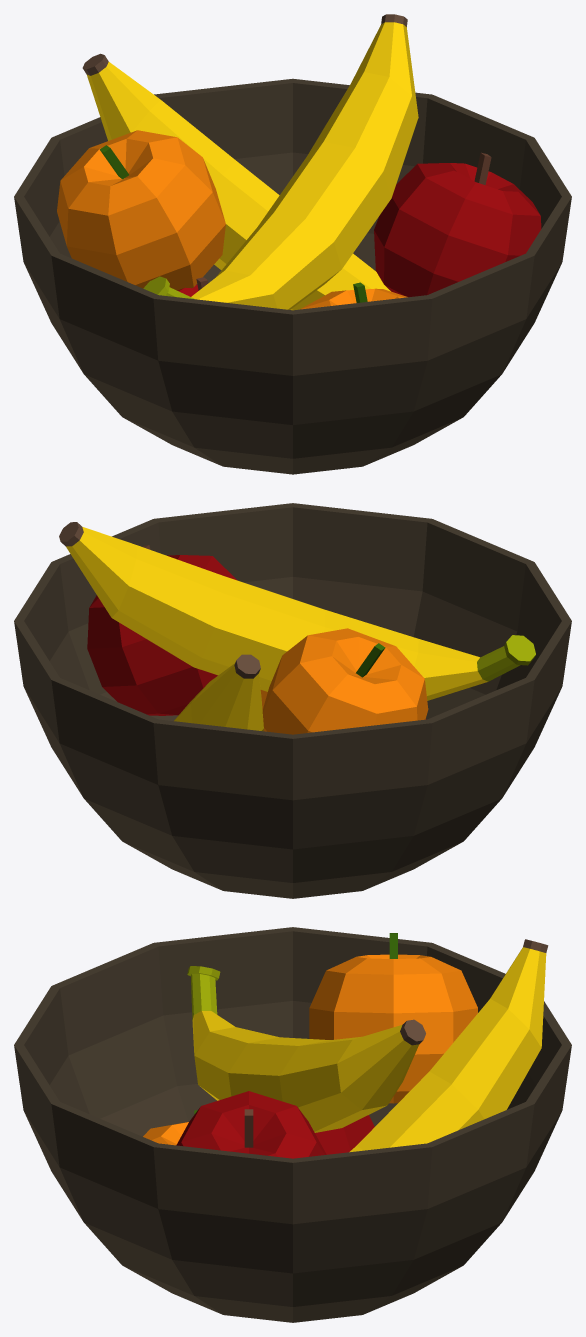
Rendered from FRUTEIRA.fbx.
3 views of the same model, one above another, from view 1: azimuth 30°, elevation 25°; view 2: azimuth 150°, elevation 25°; view 3: azimuth 270°, elevation 25° (orthographic).
Parts seen in each view (by area): view 1: Sphere, Sphere.006, Sphere.005, Sphere.004, Sphere.001, Sphere.002; view 2: Sphere, Sphere.006, Sphere.005, Sphere.004, Sphere.001; view 3: Sphere, Sphere.006, Sphere.001, Sphere.005, Sphere.004, Sphere.003, Sphere.002.
Part boxes in pixels (x1=…): Sphere: x1=14, y1=78, x2=571, y2=474; Sphere.006: x1=143, y1=14, x2=418, y2=309; Sphere.005: x1=57, y1=130, x2=225, y2=290; Sphere.004: x1=374, y1=163, x2=541, y2=297; Sphere.001: x1=82, y1=53, x2=390, y2=310; Sphere.002: x1=300, y1=288, x2=407, y2=309; Sphere: x1=14, y1=503, x2=571, y2=898; Sphere.006: x1=59, y1=522, x2=535, y2=700; Sphere.005: x1=262, y1=628, x2=428, y2=734; Sphere.004: x1=87, y1=555, x2=237, y2=715; Sphere.001: x1=174, y1=654, x2=263, y2=731; Sphere: x1=14, y1=927, x2=571, y2=1322; Sphere.006: x1=187, y1=966, x2=425, y2=1132; Sphere.001: x1=349, y1=939, x2=548, y2=1152; Sphere.005: x1=309, y1=954, x2=477, y2=1103; Sphere.004: x1=176, y1=1091, x2=326, y2=1158; Sphere.003: x1=315, y1=1115, x2=374, y2=1154; Sphere.002: x1=143, y1=1122, x2=188, y2=1145.
Bounding box in the file's own units: 23.15 × 14.68 × 23.15.
